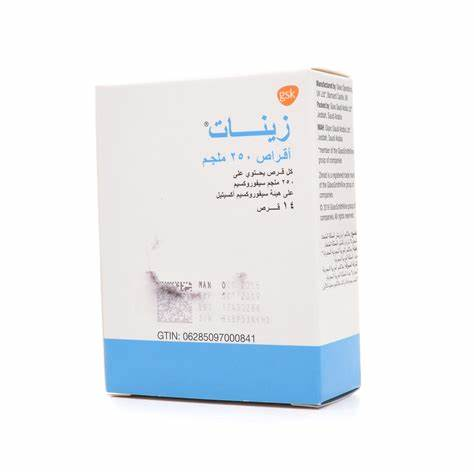Medicine: (89, 66, 374, 416)
